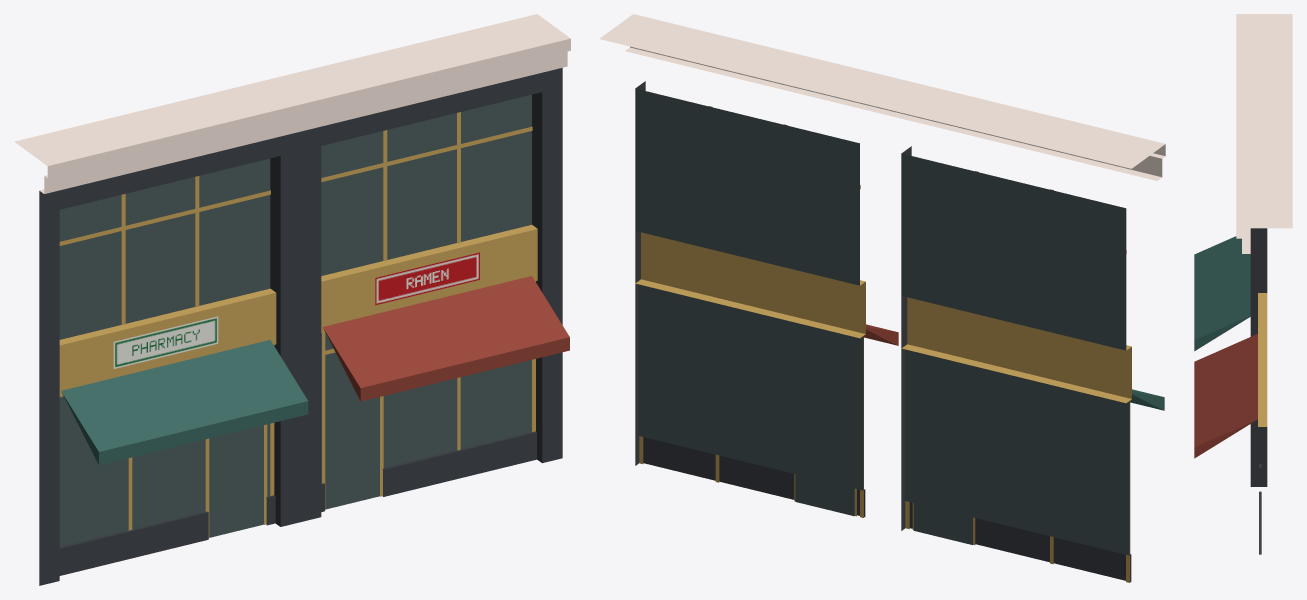
The picture shows the model from 3 angles, left to right: view 1: azimuth 30°, elevation 25°; view 2: azimuth 150°, elevation 25°; view 3: azimuth 270°, elevation 25°; orthographic projection. The views are drawn at different scales.
Parts seen in each view (by area): view 1: a2011/600/base-w4; view 2: a2011/600/base-w4; view 3: a2011/600/base-w4.
Boxes of the visible parts, x1,y1,x2,y2 form: a2011/600/base-w4: (14,14,570,585); a2011/600/base-w4: (599,14,1165,582); a2011/600/base-w4: (1194,14,1292,554).
Size of the model in its own units: 9 by 7 by 1.75.
